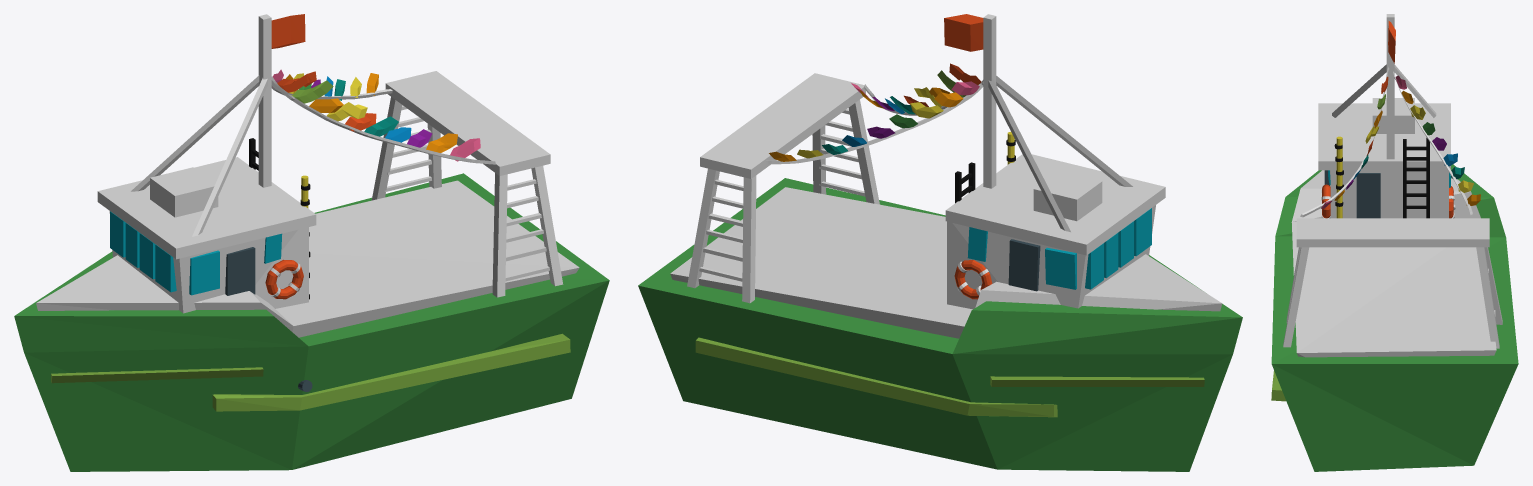
3 views of the same model, side by side, from view 1: azimuth 30°, elevation 25°; view 2: azimuth 150°, elevation 25°; view 3: azimuth 270°, elevation 25° (orthographic). The views are drawn at different scales.
Visible parts, largest first — view 1: node_MeshObject-2014330240-PolyPaper21; view 2: node_MeshObject-2014330240-PolyPaper21; view 3: node_MeshObject-2014330240-PolyPaper21.
Boxes of the visible parts, bbox=[...] form: node_MeshObject-2014330240-PolyPaper21: bbox=[14, 14, 609, 471]; node_MeshObject-2014330240-PolyPaper21: bbox=[638, 14, 1242, 471]; node_MeshObject-2014330240-PolyPaper21: bbox=[1271, 14, 1518, 471].
Size of the model in its own units: 2.55 by 1.91 by 1.23.
